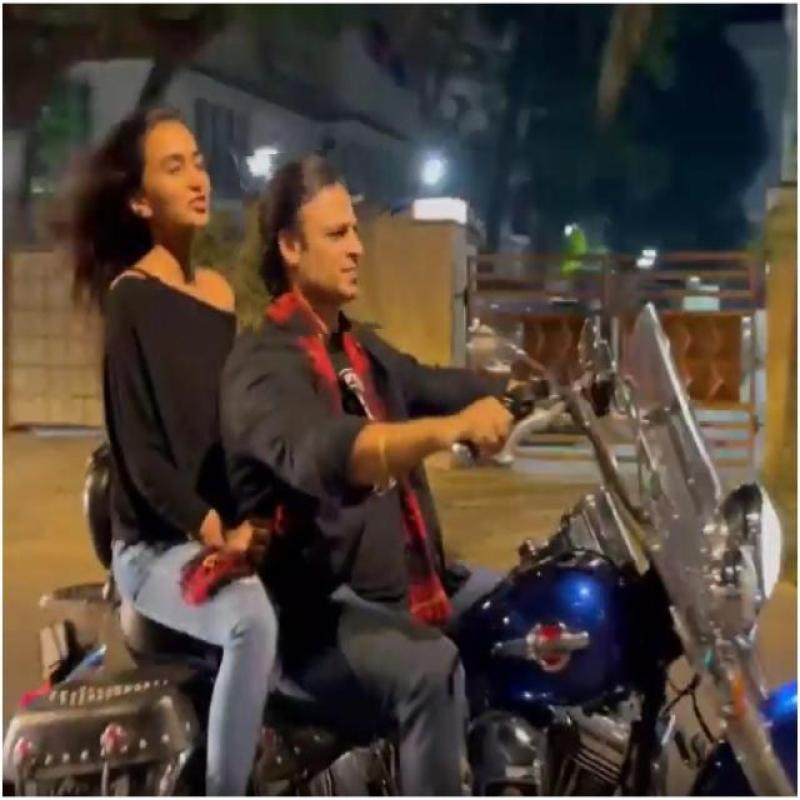nohelmet: (242, 148, 398, 338), (95, 113, 226, 268)
